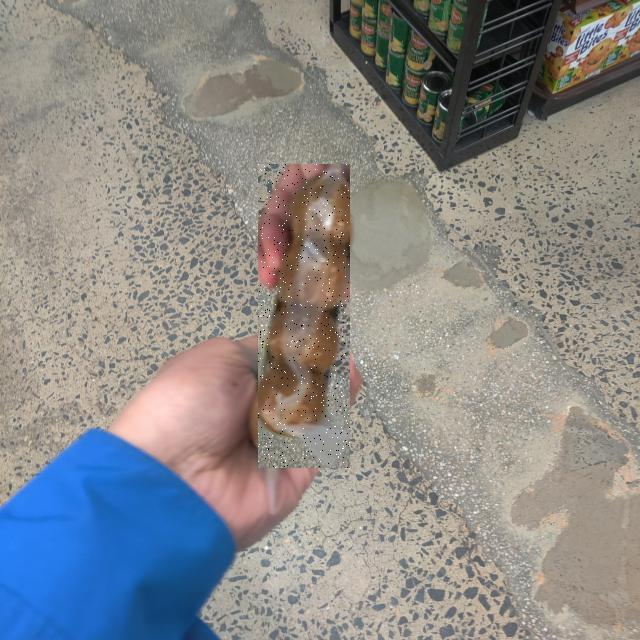Meat: (258, 165, 350, 469)
